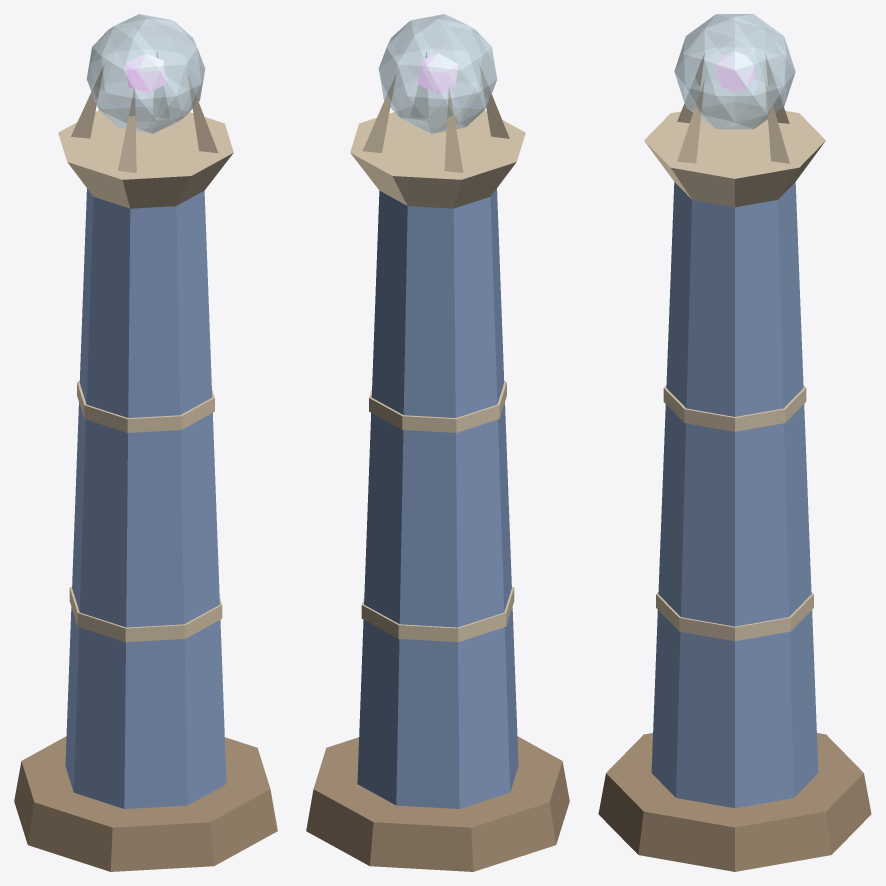
The model's file is prism_spire.glb.
3 renders of one model, left to right at view 1: azimuth 30°, elevation 25°; view 2: azimuth 150°, elevation 25°; view 3: azimuth 270°, elevation 25°, orthographic.
Visible parts, largest first — view 1: Prism_Spire; view 2: Prism_Spire; view 3: Prism_Spire.
Boxes of the visible parts, x1,y1,x2,y2 form: Prism_Spire: [14, 14, 277, 871]; Prism_Spire: [306, 14, 569, 871]; Prism_Spire: [598, 14, 871, 871].
Size of the model in its own units: 1.8 by 5.8 by 1.8.
